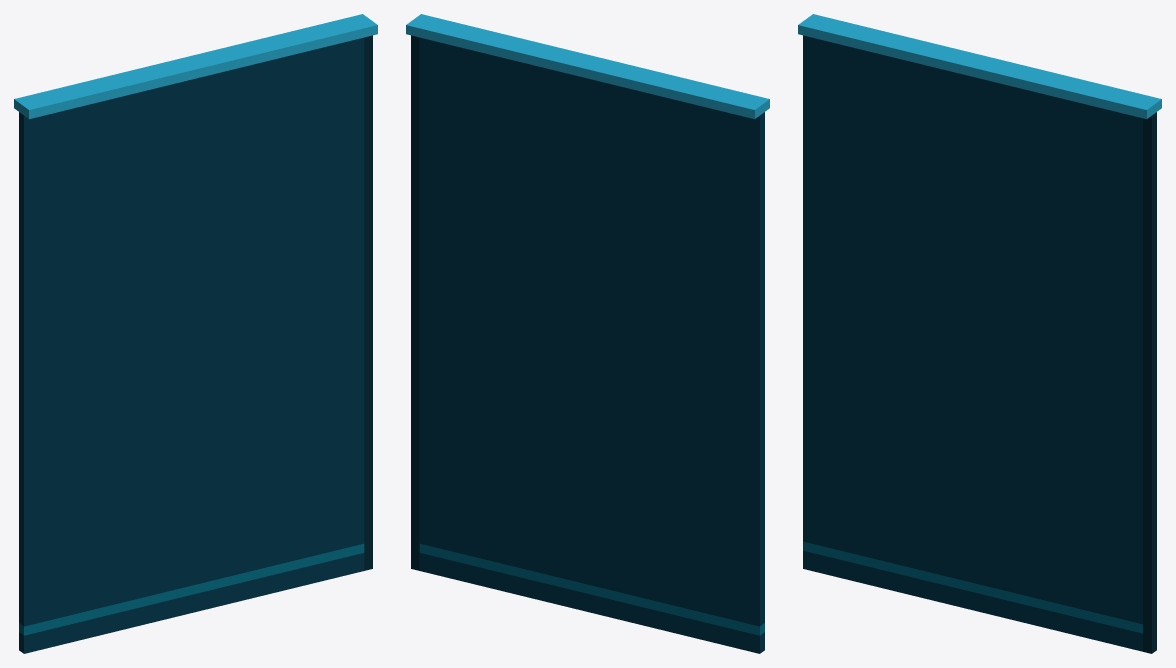
Rendered from wall-labs.obj.
3 renders of one model, left to right at view 1: azimuth 30°, elevation 25°; view 2: azimuth 150°, elevation 25°; view 3: azimuth 330°, elevation 25°, orthographic.
Size of the model in its own units: 4 by 6 by 0.3.
1 material, 1 textured.
